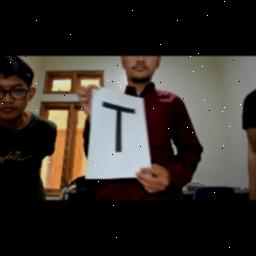t: (98, 98, 142, 158)
